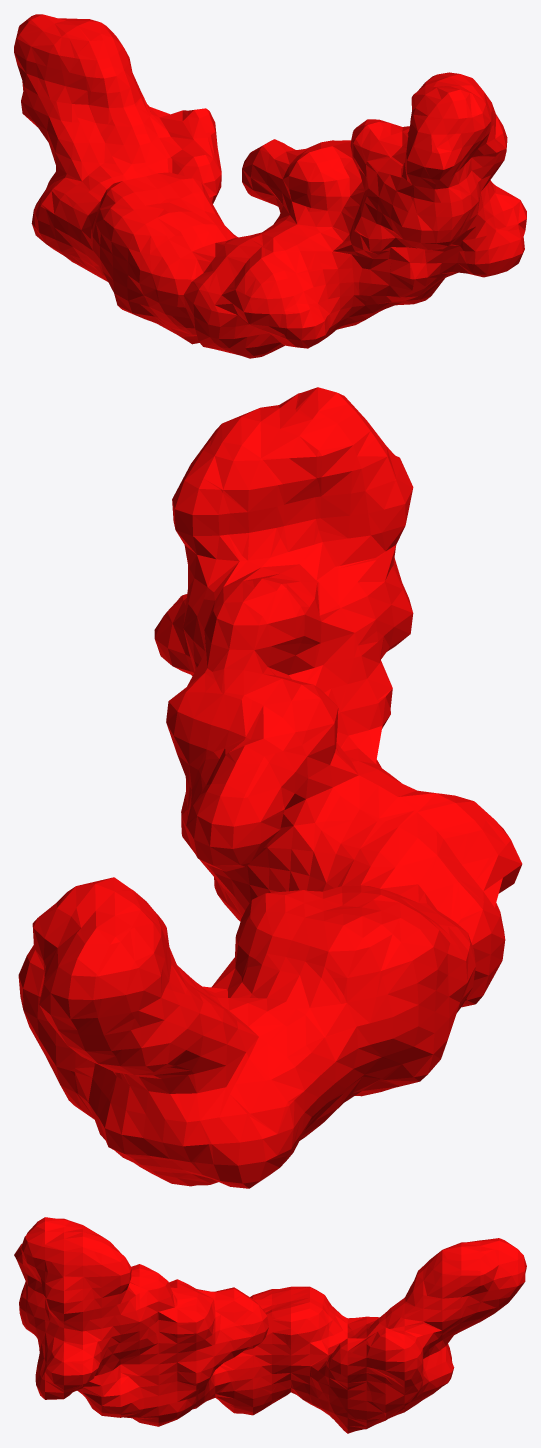
Rendered from emrA_coarse.dae.
3 renders of one model, top to bottom at view 1: azimuth 30°, elevation 25°; view 2: azimuth 150°, elevation 25°; view 3: azimuth 270°, elevation 25°, orthographic. The views are drawn at different scales.
Visible parts, largest first — view 1: emrA; view 2: emrA; view 3: emrA.
Part boxes in pixels (<box>): emrA: <box>14,14,526,358</box>; emrA: <box>18,387,522,1188</box>; emrA: <box>14,1217,526,1433</box>.
Bounding box in the file's own units: 65.03 × 66.6 × 121.
